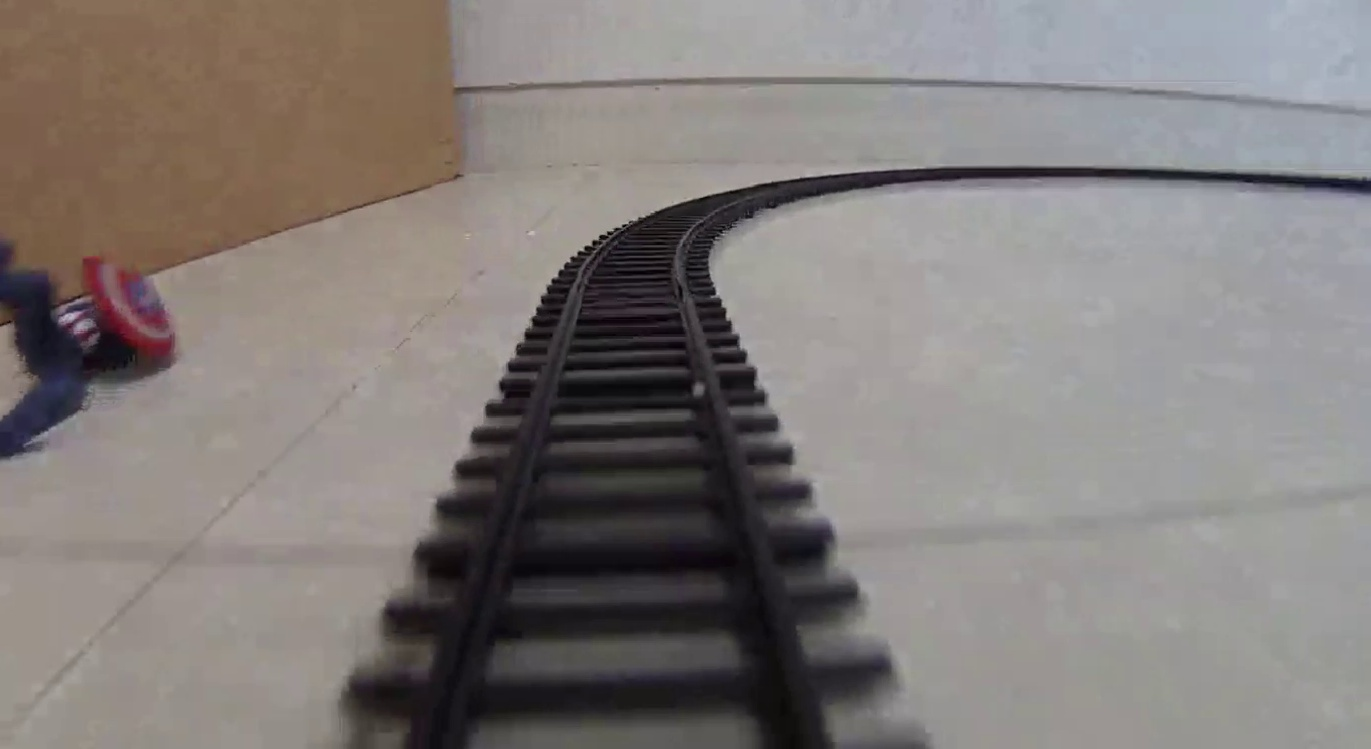people: (1, 234, 179, 458)
